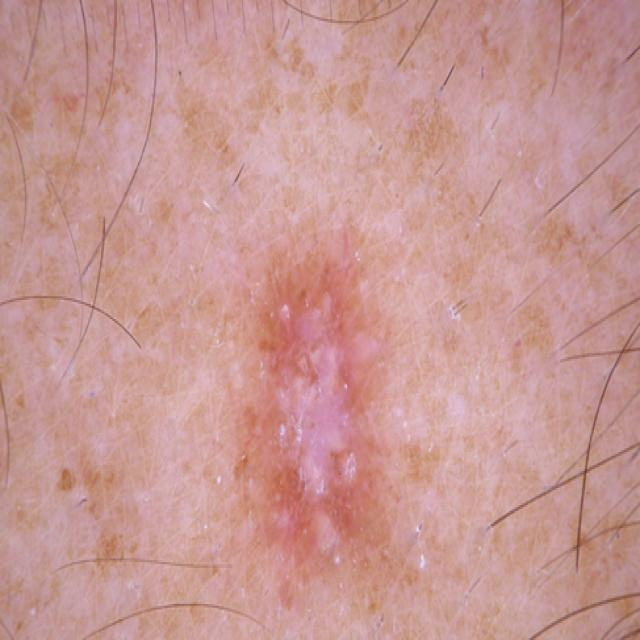Dermatofibroma: (199, 201, 476, 597)
